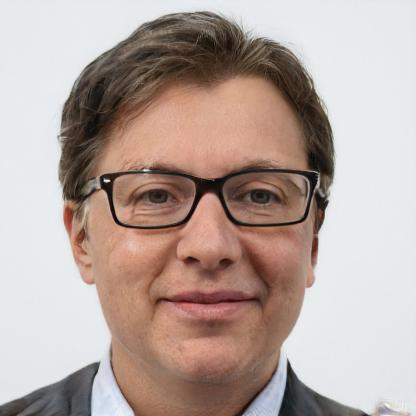glasses: (90, 166, 322, 238)
